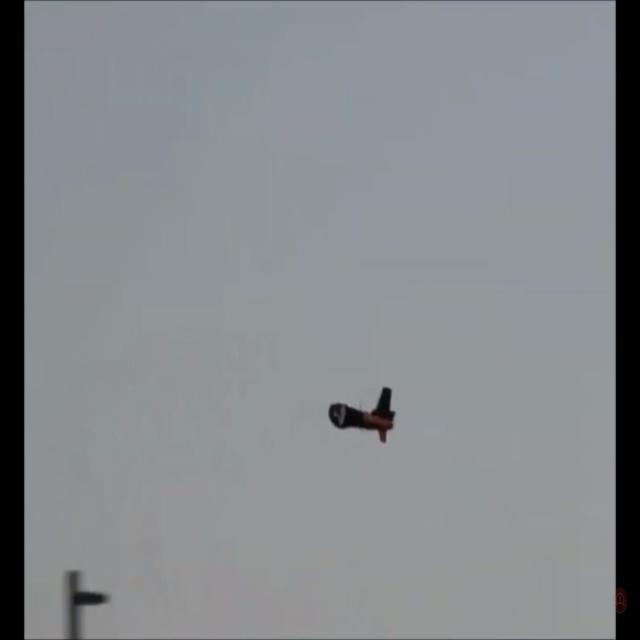iha: (359, 385, 365, 445)
